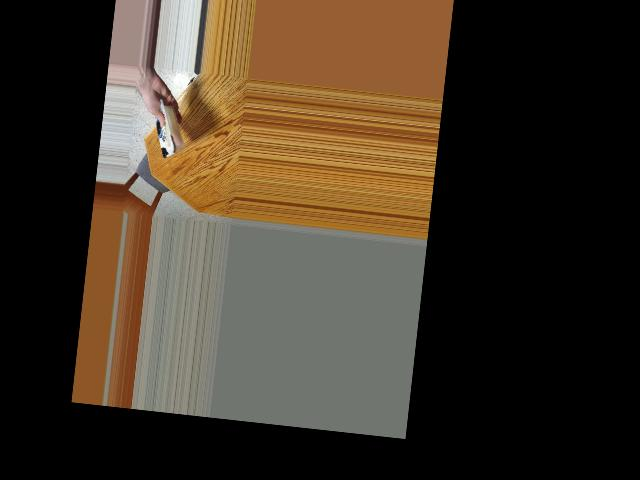cheese: (142, 103, 190, 157)
